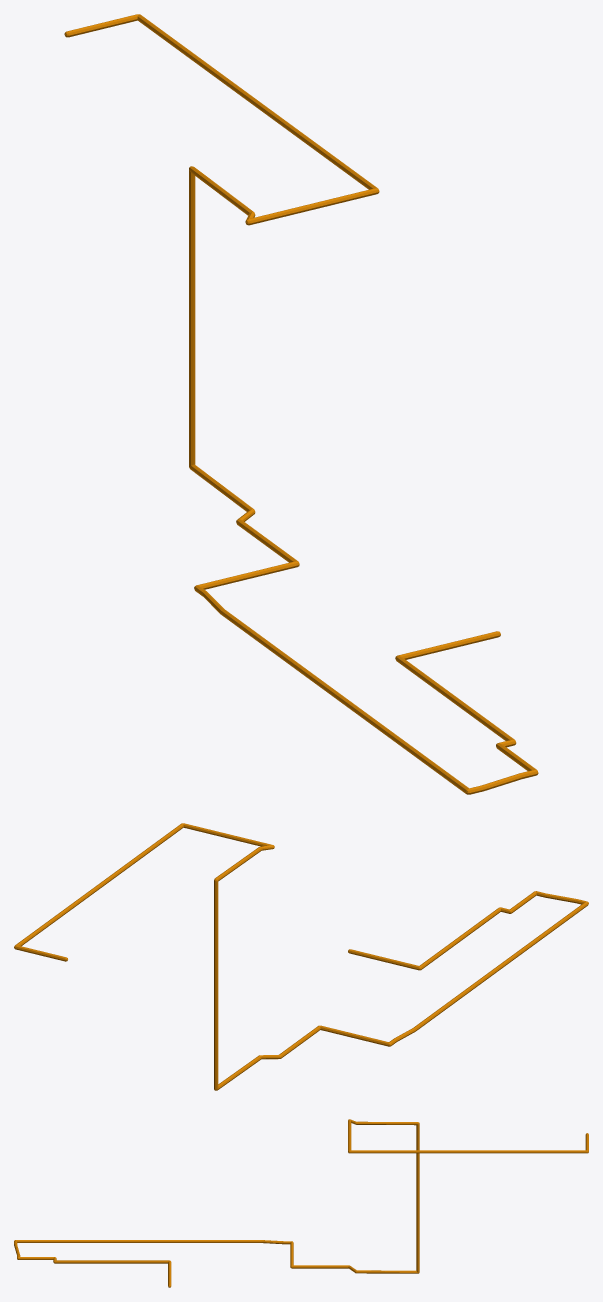
The picture shows the model from 3 angles, top to bottom: view 1: azimuth 30°, elevation 25°; view 2: azimuth 150°, elevation 25°; view 3: azimuth 270°, elevation 25°; orthographic projection. The views are drawn at different scales.
Size of the model in its own units: 871 by 1020 by 3507.
